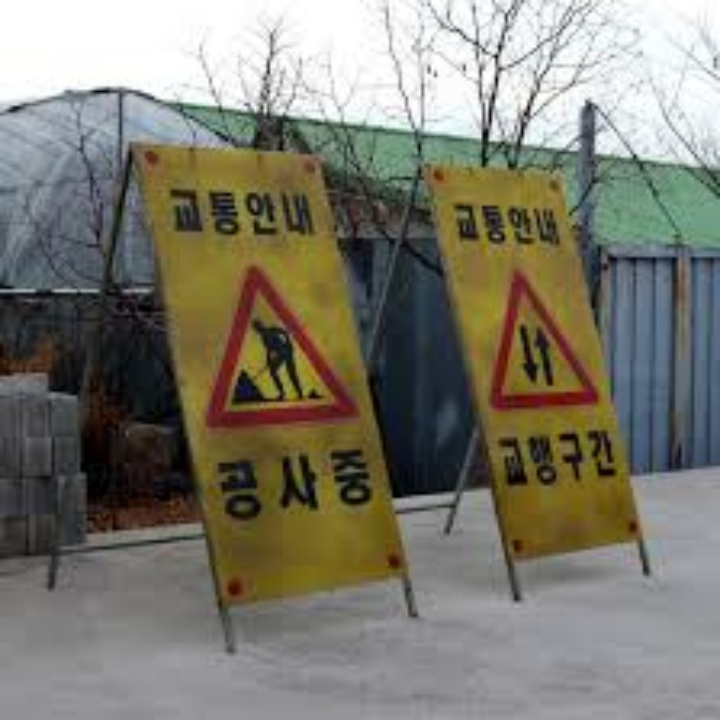const: (227, 315, 333, 403)
